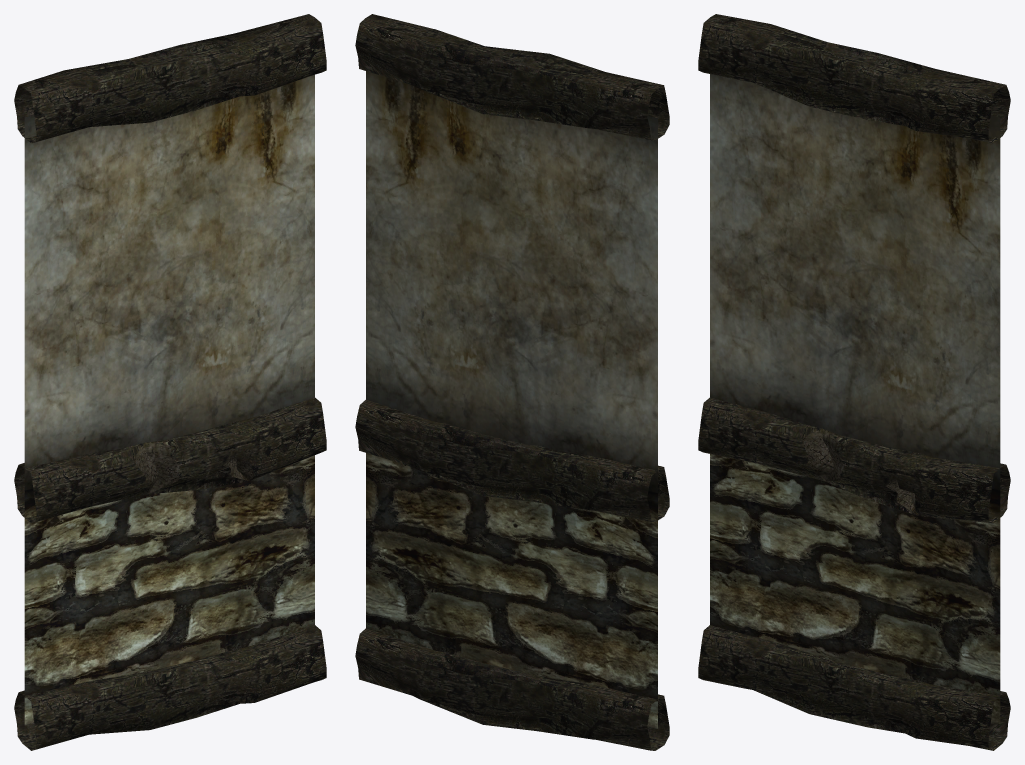
The model's file is short_decayed01.dae.
3 renders of one model, left to right at view 1: azimuth 30°, elevation 25°; view 2: azimuth 150°, elevation 25°; view 3: azimuth 330°, elevation 25°, orthographic.
Visible parts, largest first — view 1: pPlane3, polySurface1; view 2: pPlane3, polySurface1; view 3: pPlane3, polySurface1.
Part boxes in pixels (<box>): pPlane3: <box>24,74,314,725</box>; polySurface1: <box>14,14,326,750</box>; pPlane3: <box>366,71,657,728</box>; polySurface1: <box>355,14,669,750</box>; pPlane3: <box>710,74,1000,725</box>; polySurface1: <box>698,14,1010,750</box>.
Size of the model in its own units: 2 by 4.39 by 0.3257.
